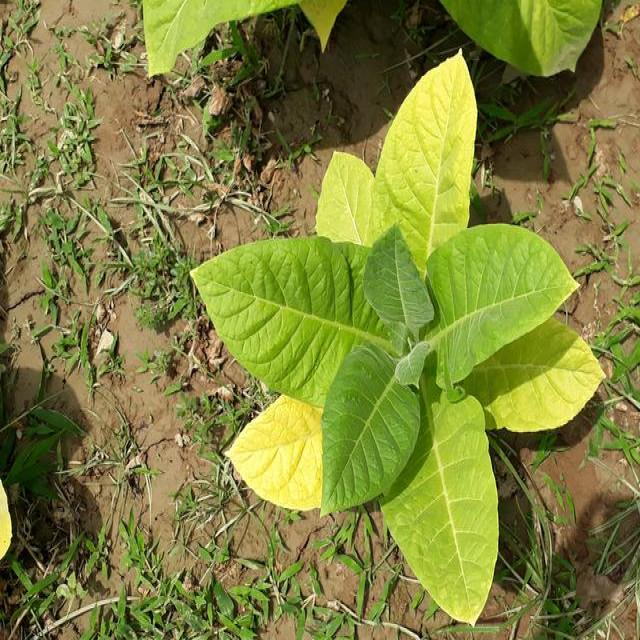crop: (193, 49, 596, 624), (142, 0, 340, 75), (447, 0, 611, 73)
